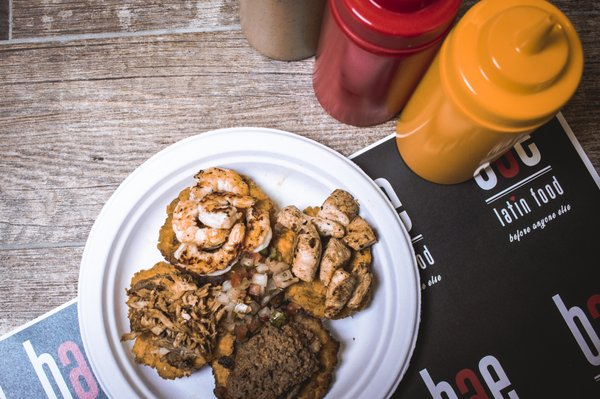pizza: (394, 2, 584, 186)
